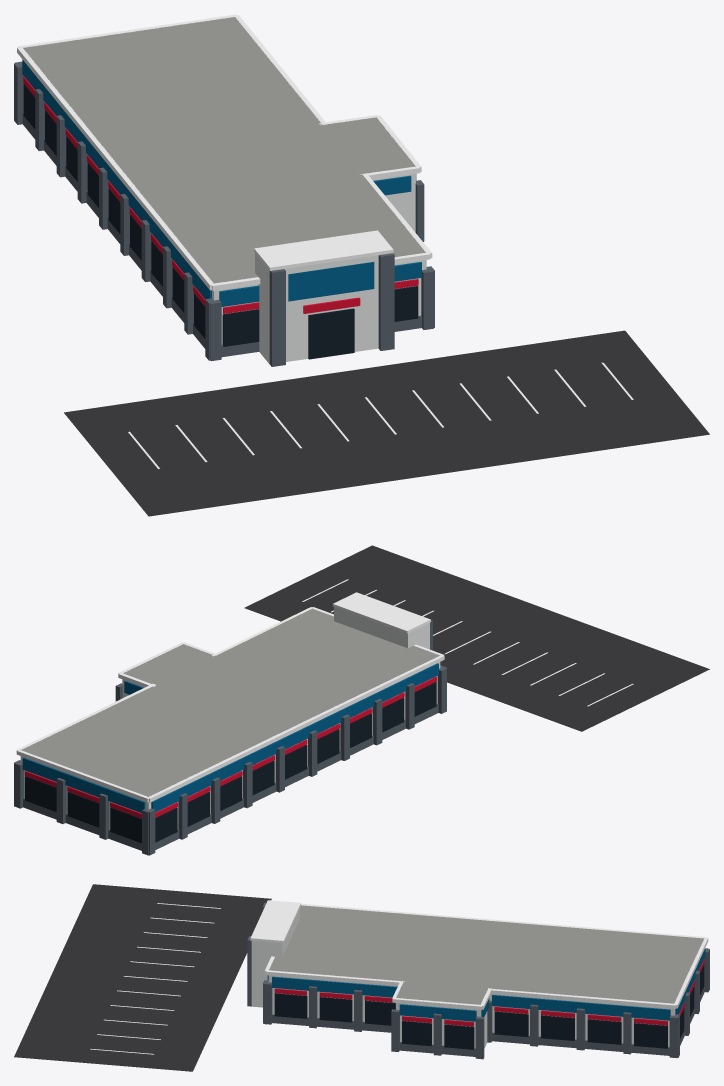
Rendered from m_dominos.glb.
3 renders of one model, top to bottom at view 1: azimuth 30°, elevation 25°; view 2: azimuth 150°, elevation 25°; view 3: azimuth 270°, elevation 25°, orthographic. The views are drawn at different scales.
Parts seen in each view (by area): view 1: m_dominos_lod0; view 2: m_dominos_lod0; view 3: m_dominos_lod0.
Part boxes in pixels (x1=…): m_dominos_lod0: x1=14, y1=14, x2=709, y2=516; m_dominos_lod0: x1=14, y1=545, x2=709, y2=855; m_dominos_lod0: x1=14, y1=884, x2=709, y2=1071.
Size of what is drawn, in the model's own units: 34.08 by 5.8 by 53.49.
